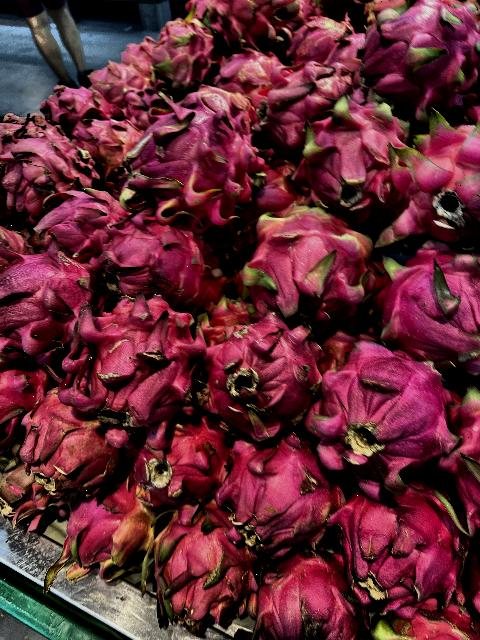buah-naga-belum-matang: (246, 205, 374, 323), (21, 392, 123, 494), (62, 483, 158, 571), (77, 114, 135, 168)
buah-naga-matang: (306, 345, 446, 483), (331, 476, 465, 604), (122, 102, 258, 218), (64, 300, 206, 410), (215, 436, 339, 556), (201, 312, 316, 431), (380, 234, 480, 370), (356, 0, 480, 104), (384, 112, 480, 244), (152, 508, 256, 628), (303, 106, 397, 210), (132, 411, 232, 504), (256, 554, 364, 640), (1, 250, 85, 360), (99, 220, 209, 296), (1, 134, 96, 206), (34, 184, 118, 240), (258, 76, 328, 142)
